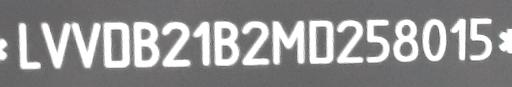0: (422, 17, 450, 64)
1: (192, 18, 212, 69), (450, 17, 470, 62)
2: (240, 19, 272, 70), (160, 19, 190, 68), (336, 18, 364, 67)
5: (366, 19, 392, 68), (470, 16, 494, 65)
8: (394, 19, 420, 64)
B: (132, 18, 160, 71), (214, 19, 240, 70)
D: (306, 18, 336, 69), (102, 18, 130, 71)
L: (10, 19, 42, 70)
M: (271, 18, 307, 71)
V: (73, 19, 103, 70), (44, 19, 72, 70)
